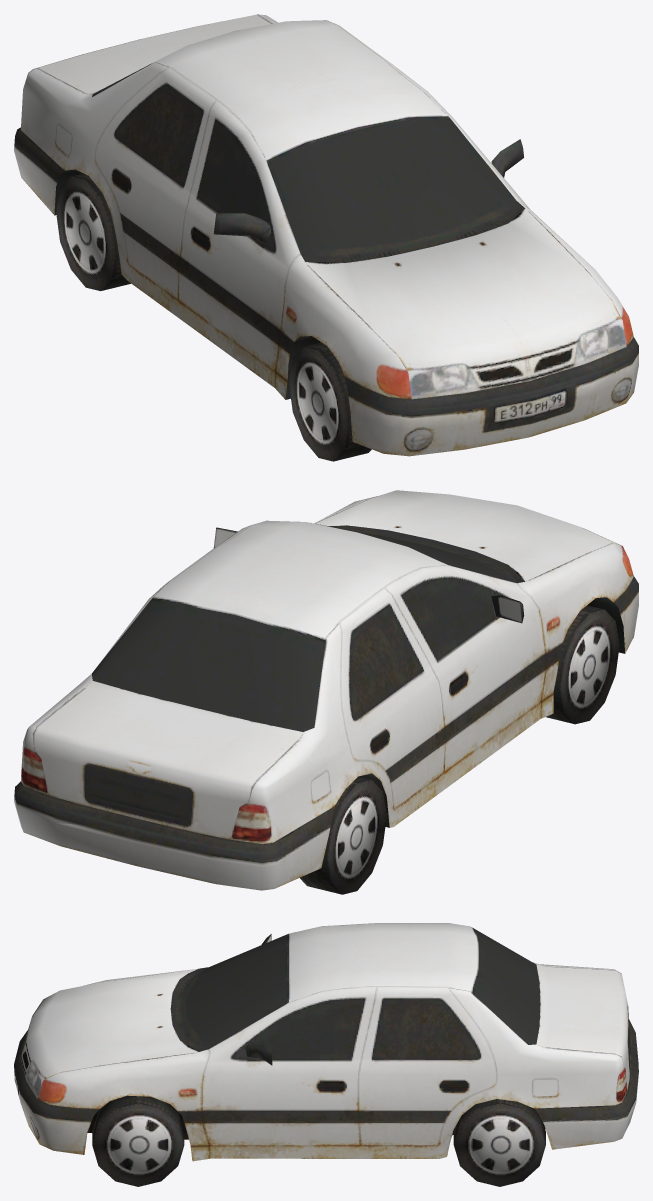
The model's file is Car 01.FBX.
The picture shows the model from 3 angles, top to bottom: view 1: azimuth 30°, elevation 25°; view 2: azimuth 150°, elevation 25°; view 3: azimuth 270°, elevation 25°; orthographic projection. The views are drawn at different scales.
Visible parts, largest first — view 1: Car 01; view 2: Car 01; view 3: Car 01.
Part boxes in pixels (bbox=[...]): Car 01: bbox=[14, 14, 638, 461]; Car 01: bbox=[14, 490, 638, 894]; Car 01: bbox=[14, 923, 638, 1186].
Size of the model in its own units: 19.98 by 14.88 by 45.13.
